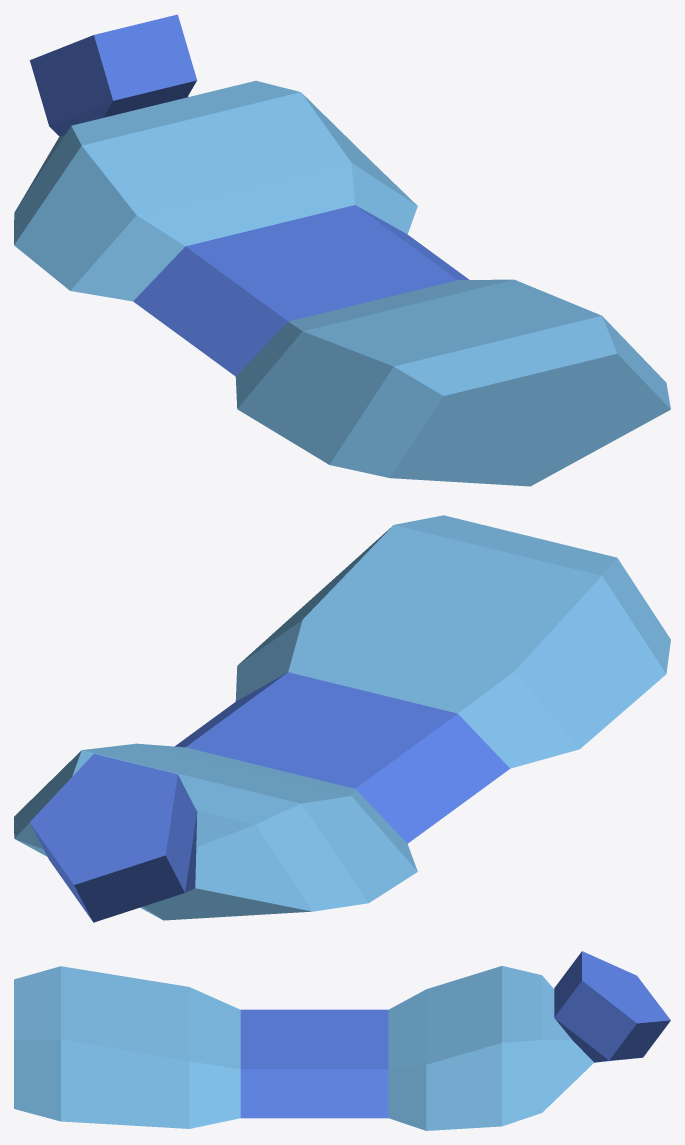
Rendered from Şişe 1.fbx.
3 views of the same model, one above another, from view 1: azimuth 30°, elevation 25°; view 2: azimuth 150°, elevation 25°; view 3: azimuth 270°, elevation 25° (orthographic). The views are drawn at different scales.
Parts seen in each view (by area): view 1: Circle.003; view 2: Circle.003; view 3: Circle.003.
Boxes of the visible parts, x1,y1,x2,y2 form: Circle.003: (14,14,670,486); Circle.003: (14,515,670,922); Circle.003: (14,951,670,1130).
Size of the model in its own units: 55.14 by 27.88 by 123.
